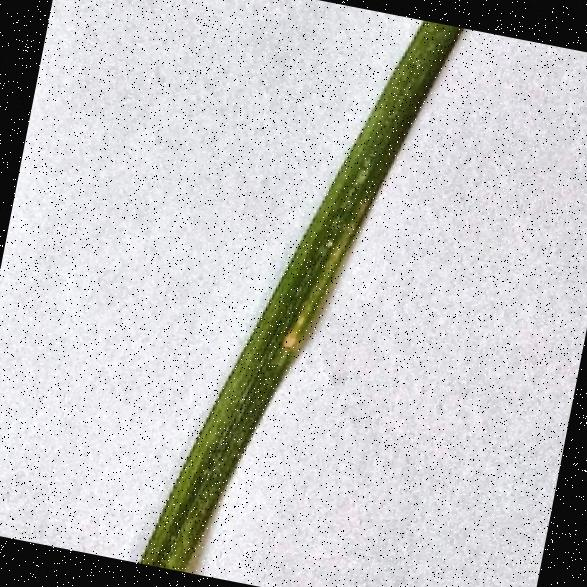Leaf_smut: (236, 114, 395, 382)
